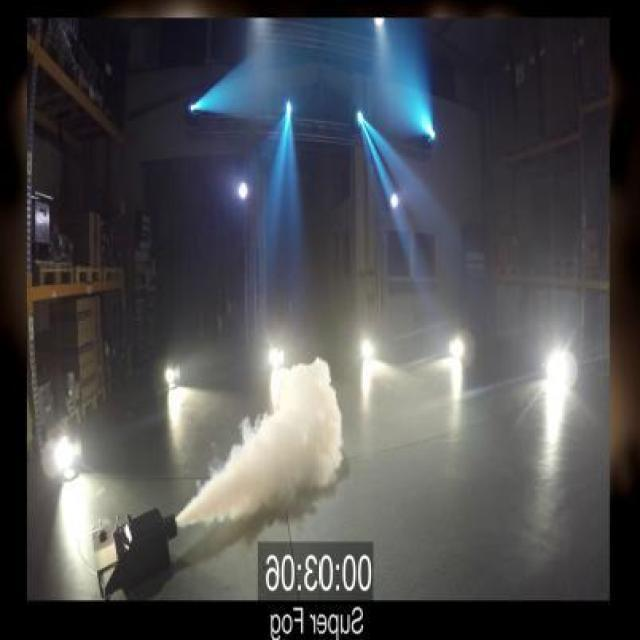fire: (192, 354, 350, 531)
